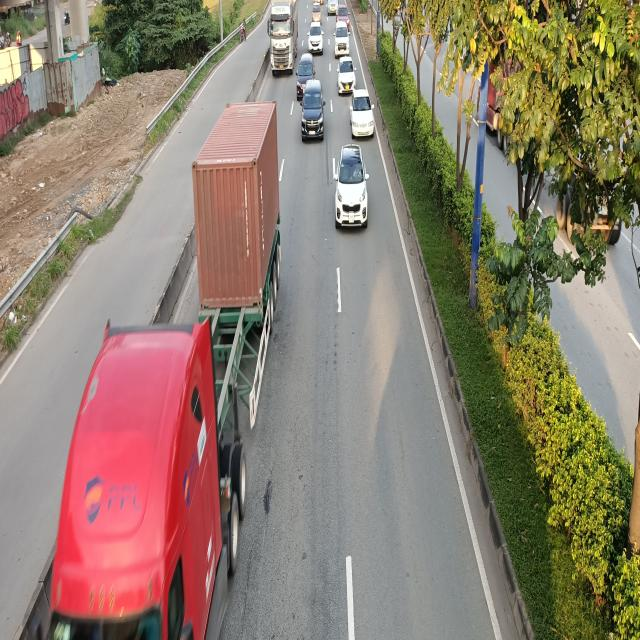car: (332, 148, 369, 233), (302, 80, 326, 142), (348, 89, 376, 139), (338, 56, 358, 94), (308, 15, 324, 55)
container: (48, 101, 277, 640), (268, 0, 298, 76)
